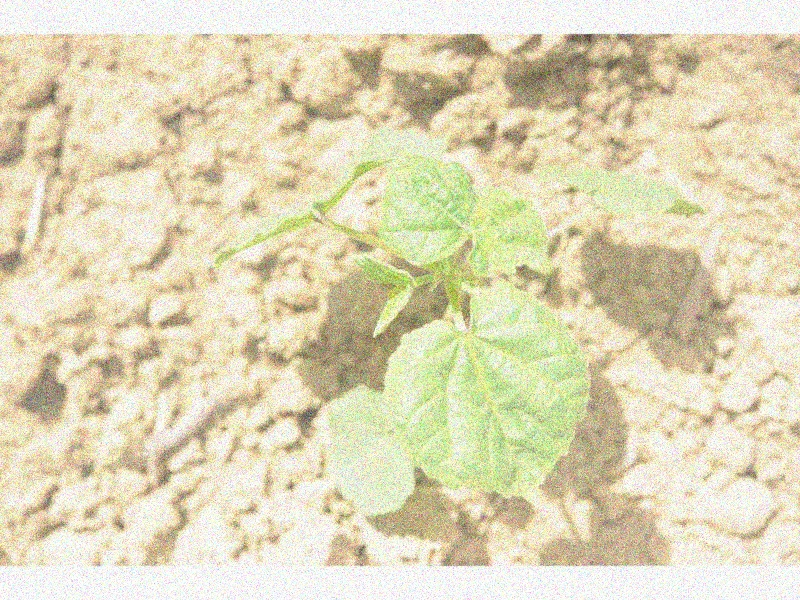velvet: (214, 122, 703, 513)
